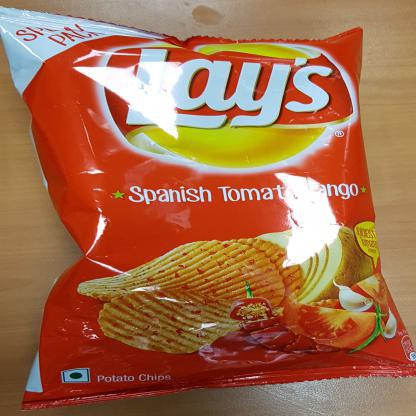tangy_tomato: (0, 3, 415, 413)
